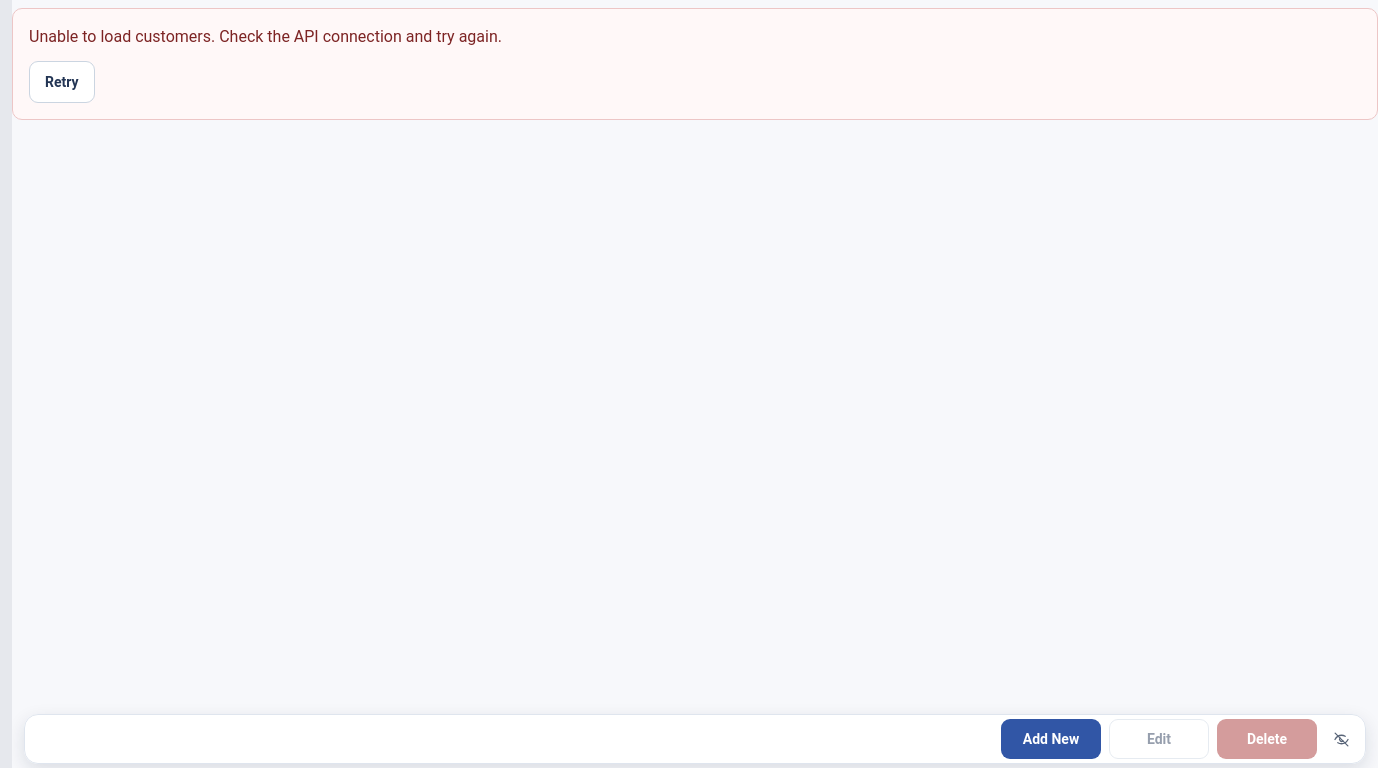
Test: CustomersComponent › offers retry when loading customers fails
The width and height of the screenshot is (1378, 768).
What coordinates should you click on to do the following:
click the button "Retry"
I would click on:
 (62, 82)
Its box is [29,61,94,103].
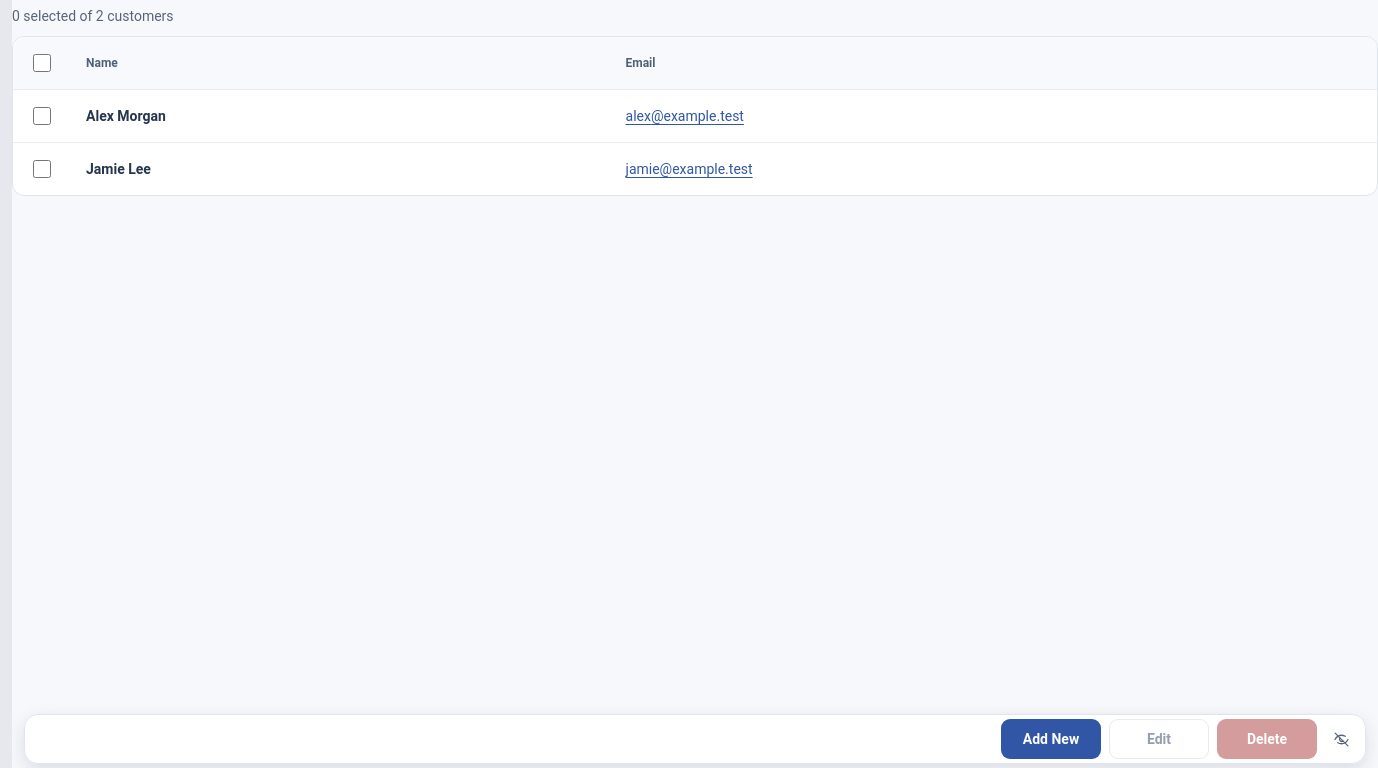
Check: the text "Alex Morgan" is shown, box [70,90,610,142]
